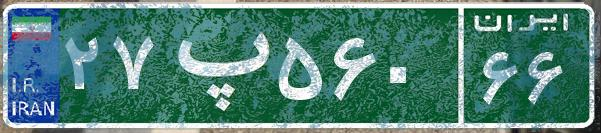0: (385, 28, 445, 110)
2: (57, 26, 110, 107)
5: (273, 28, 330, 110)
6: (330, 28, 385, 110), (475, 38, 525, 113), (525, 38, 570, 115)
7: (110, 28, 158, 105)
پ: (158, 15, 273, 115)
